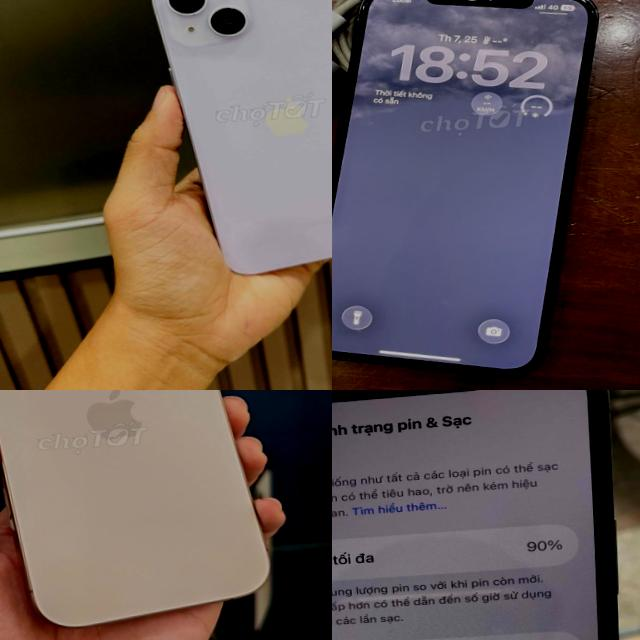gen_12_13: (332, 0, 616, 386), (332, 390, 640, 640)
gen_14: (151, 0, 332, 274)
gen_16: (0, 390, 269, 626)
